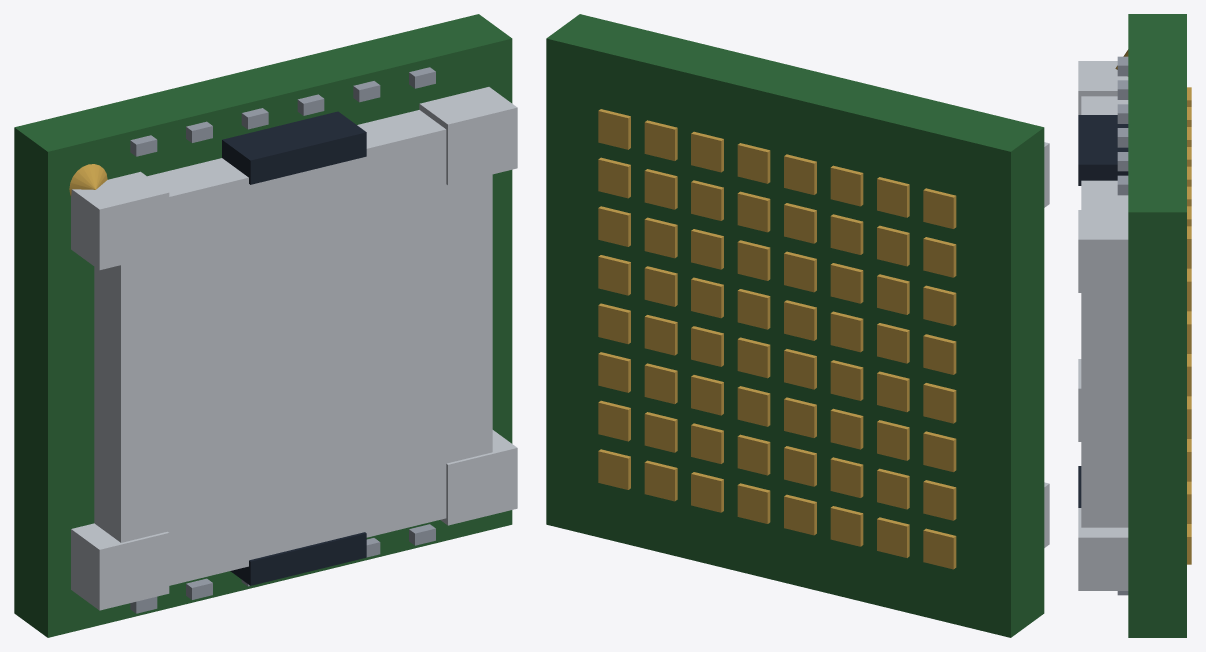
Rendered from cpu_as5.glb.
The picture shows the model from 3 angles, left to right: view 1: azimuth 30°, elevation 25°; view 2: azimuth 150°, elevation 25°; view 3: azimuth 270°, elevation 25°; orthographic projection. The views are drawn at different scales.
Visible parts, largest first — view 1: cpu_as5; view 2: cpu_as5; view 3: cpu_as5.
Part boxes in pixels (x1=…): cpu_as5: x1=14, y1=14, x2=517, y2=637; cpu_as5: x1=546, y1=14, x2=1049, y2=637; cpu_as5: x1=1078, y1=14, x2=1191, y2=637.
Size of the model in its own units: 0.4 by 0.4 by 0.0965.
